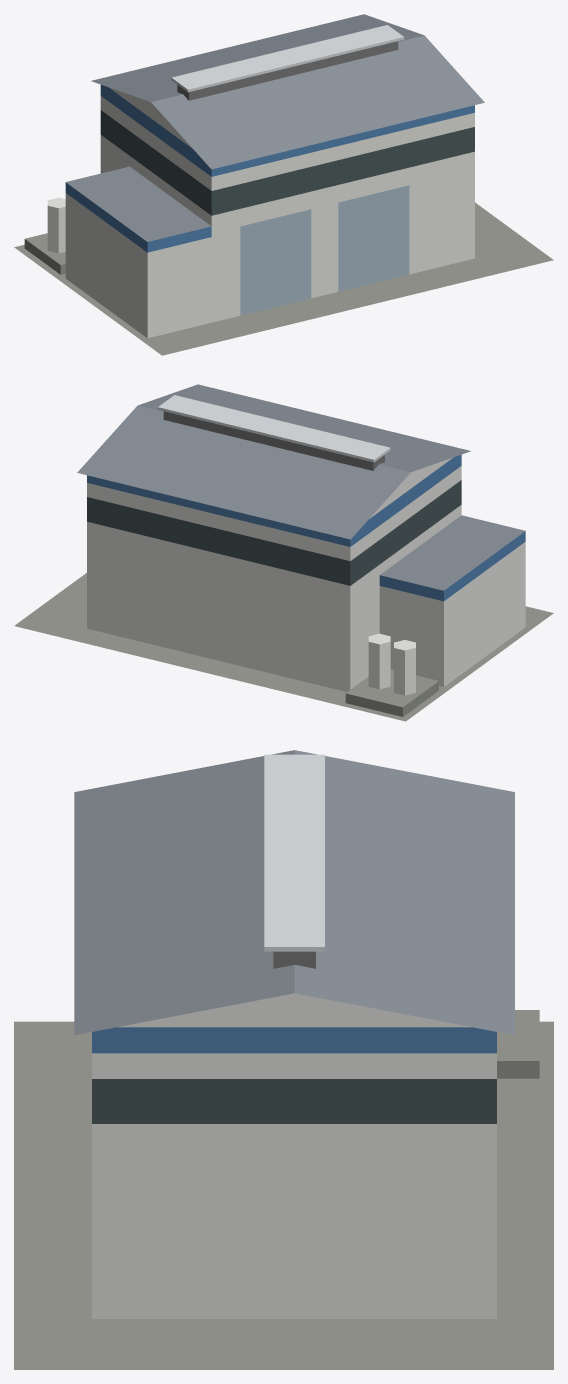
File: mashup-main-far.fbx
3 renders of one model, top to bottom at view 1: azimuth 30°, elevation 25°; view 2: azimuth 150°, elevation 25°; view 3: azimuth 270°, elevation 25°, orthographic. The views are drawn at different scales.
Parts seen in each view (by area): view 1: a1074/0/mashup-main-far; view 2: a1074/0/mashup-main-far; view 3: a1074/0/mashup-main-far.
Part boxes in pixels (x1=…): a1074/0/mashup-main-far: x1=14, y1=14, x2=553, y2=355; a1074/0/mashup-main-far: x1=14, y1=384, x2=553, y2=721; a1074/0/mashup-main-far: x1=14, y1=750, x2=553, y2=1369.
Bounding box in the file's own units: 23.2 × 11.05 × 15.2.
